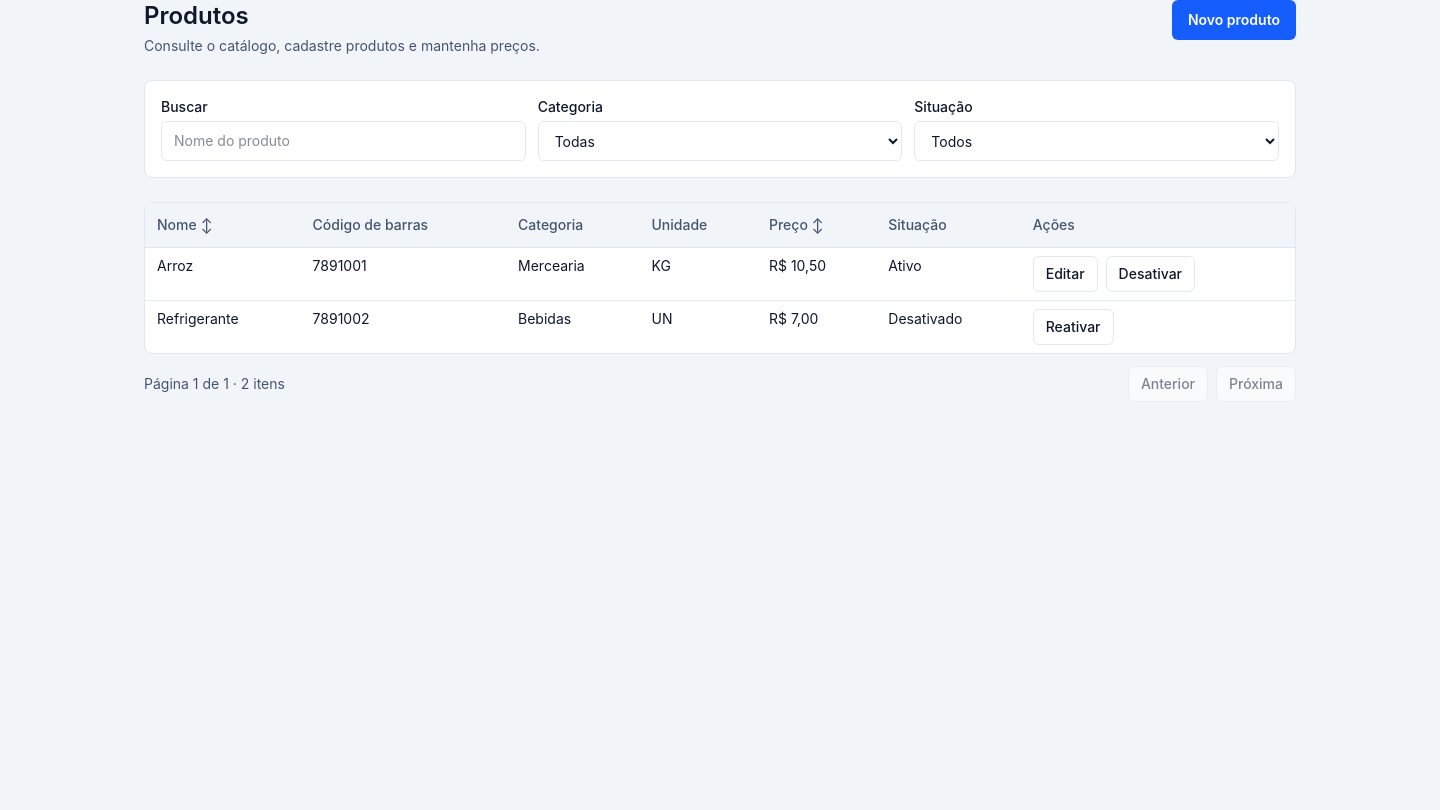
Scenario: ProductsPage — edição › mostra a mensagem e recarrega o produto quando a versão é velha
Expected: the cell "Arroz" is shown, [145,248,301,300]
Click the button with aria-label "Editar Arroz" at point(1065, 274), box [1033,256,1098,292]
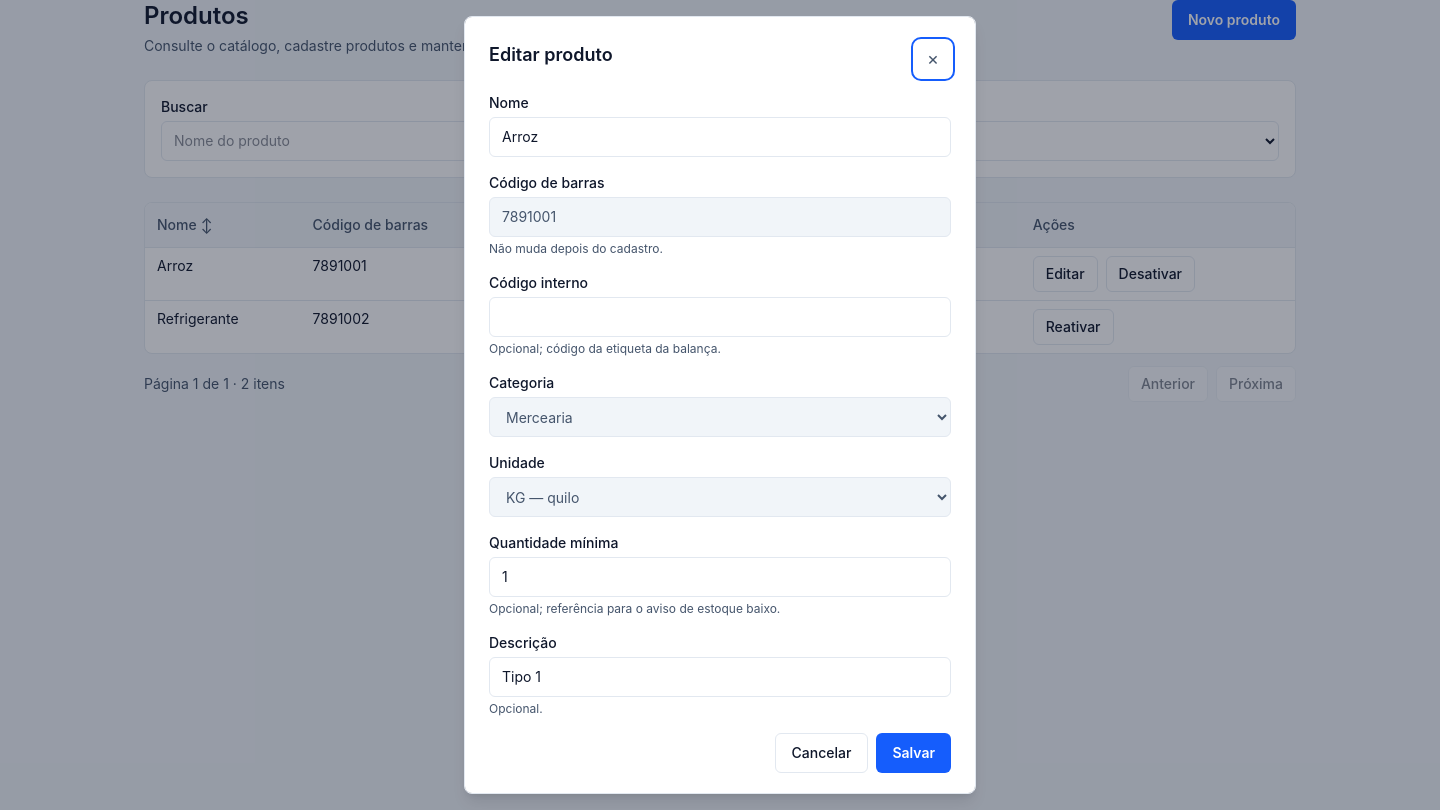
Expected: the field showing "Arroz" is shown, [489,117,951,157]
Click the button "Salvar" at point(914, 753), box [876,733,951,773]
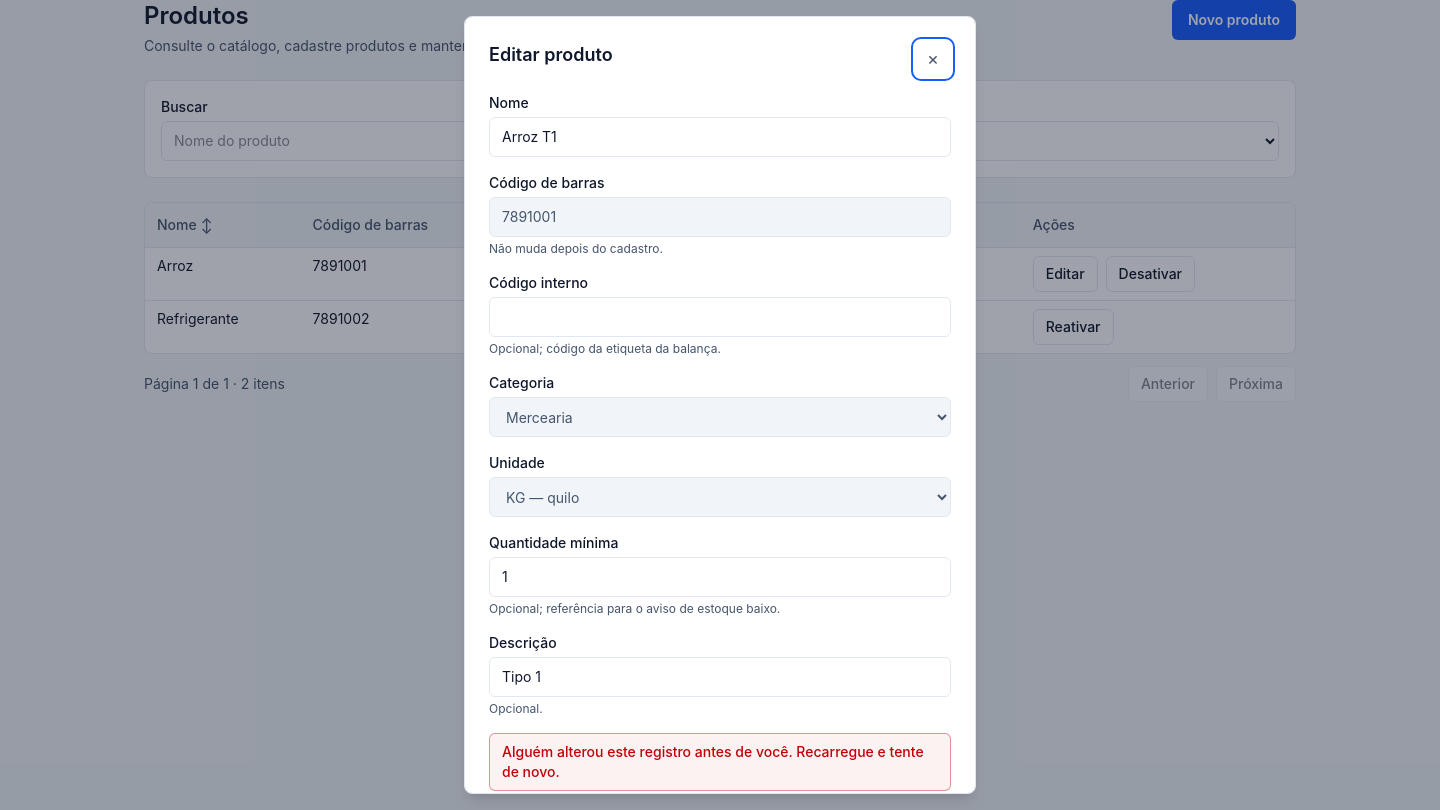
Expected: the dialog is shown, [464,16,976,794]
Expected: the message reads "Alguém alterou este registro antes de você. Recarregue e tente de novo.", [502,743,924,780]
Expected: the field showing "Arroz T1" is shown, [489,117,951,157]
